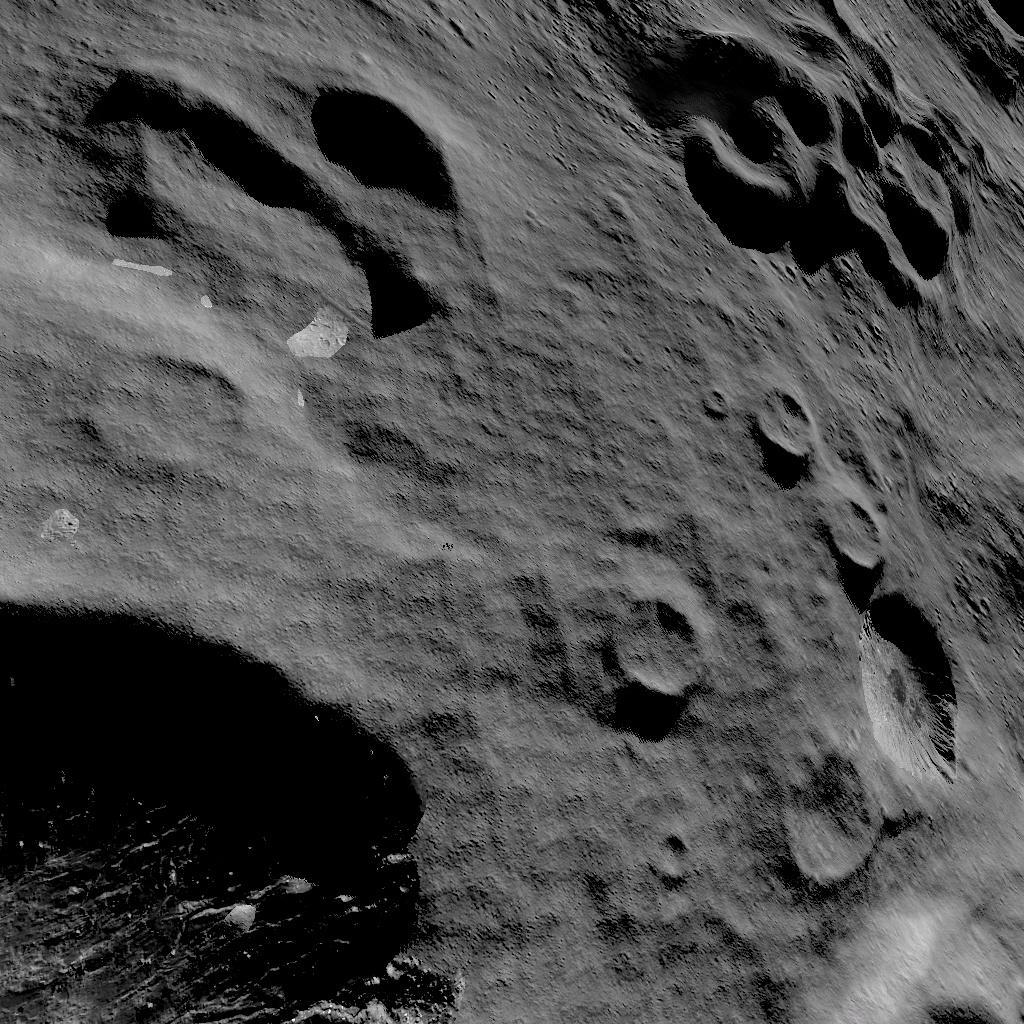Crater: (3, 550, 570, 1022), (78, 42, 486, 342), (642, 2, 1024, 304), (788, 598, 1024, 924), (110, 358, 293, 499), (614, 566, 760, 731), (767, 353, 872, 473), (849, 486, 930, 583)
